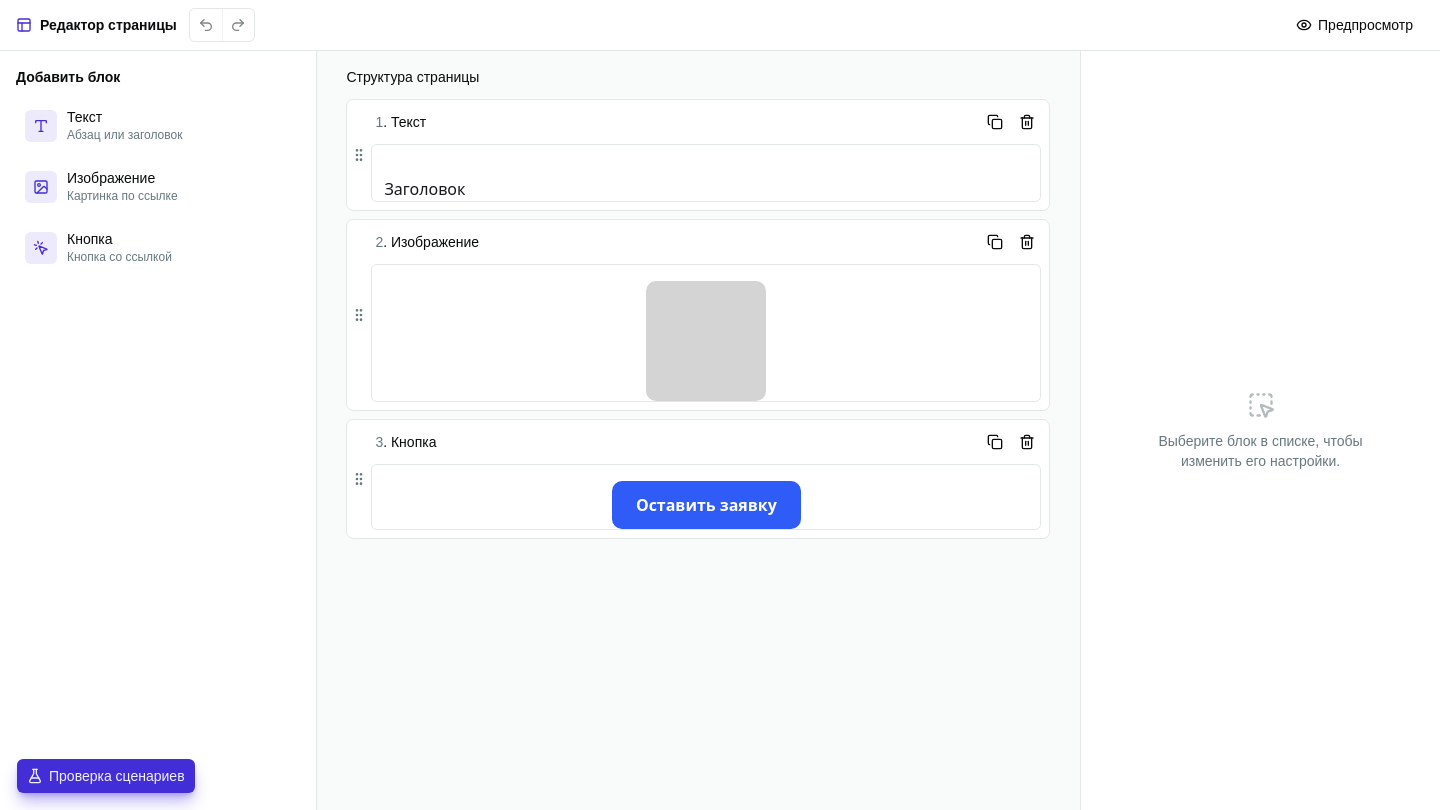
Test: history › does not put block selection into the history
Expected: the heading "Структура страницы" is shown, [346,69,479,85]
Click the button "Кнопка Кнопка со ссылкой".
click(158, 248)  # box [16,221,300,274]
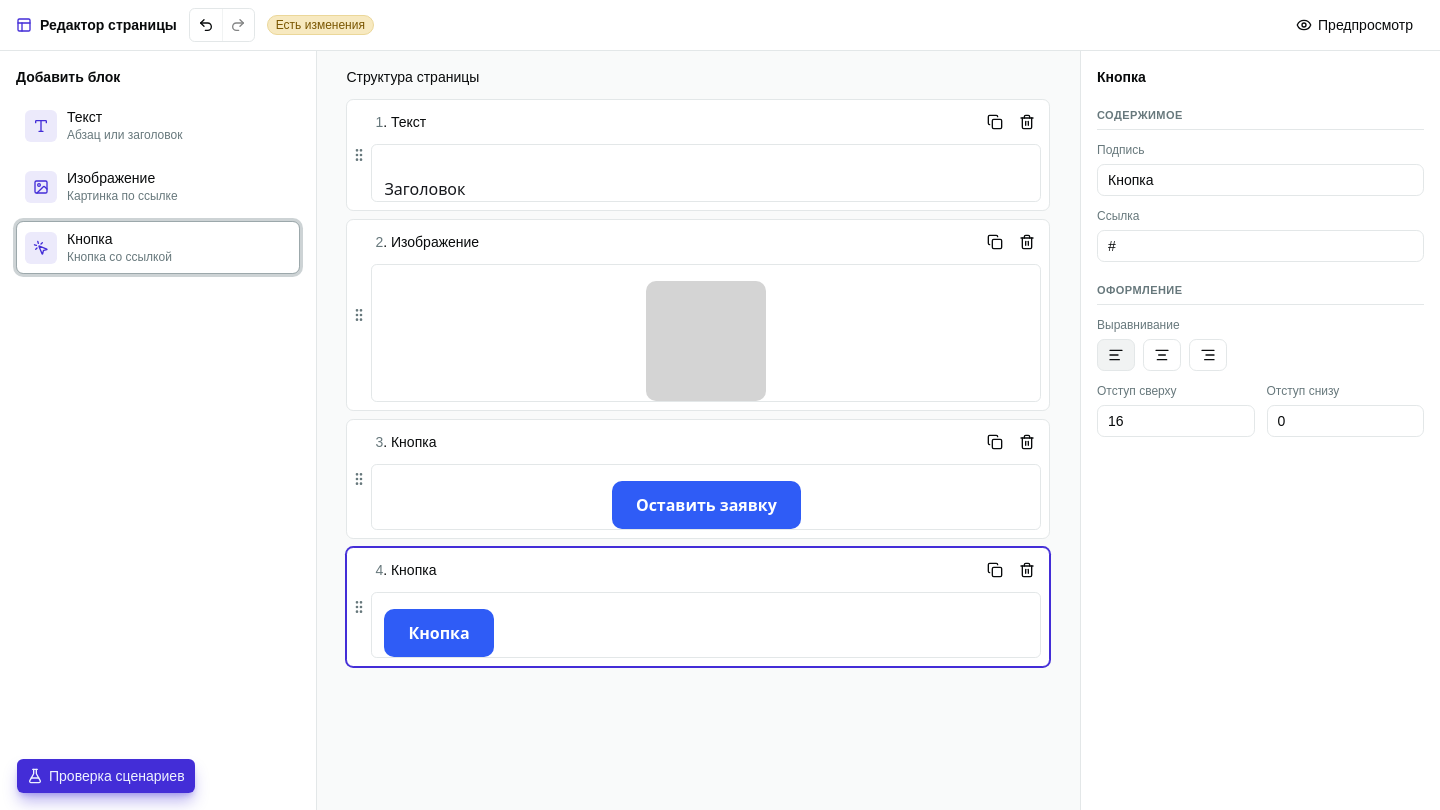
Click the button "1. Текст".
click(405, 122)  # box [371,110,977,134]
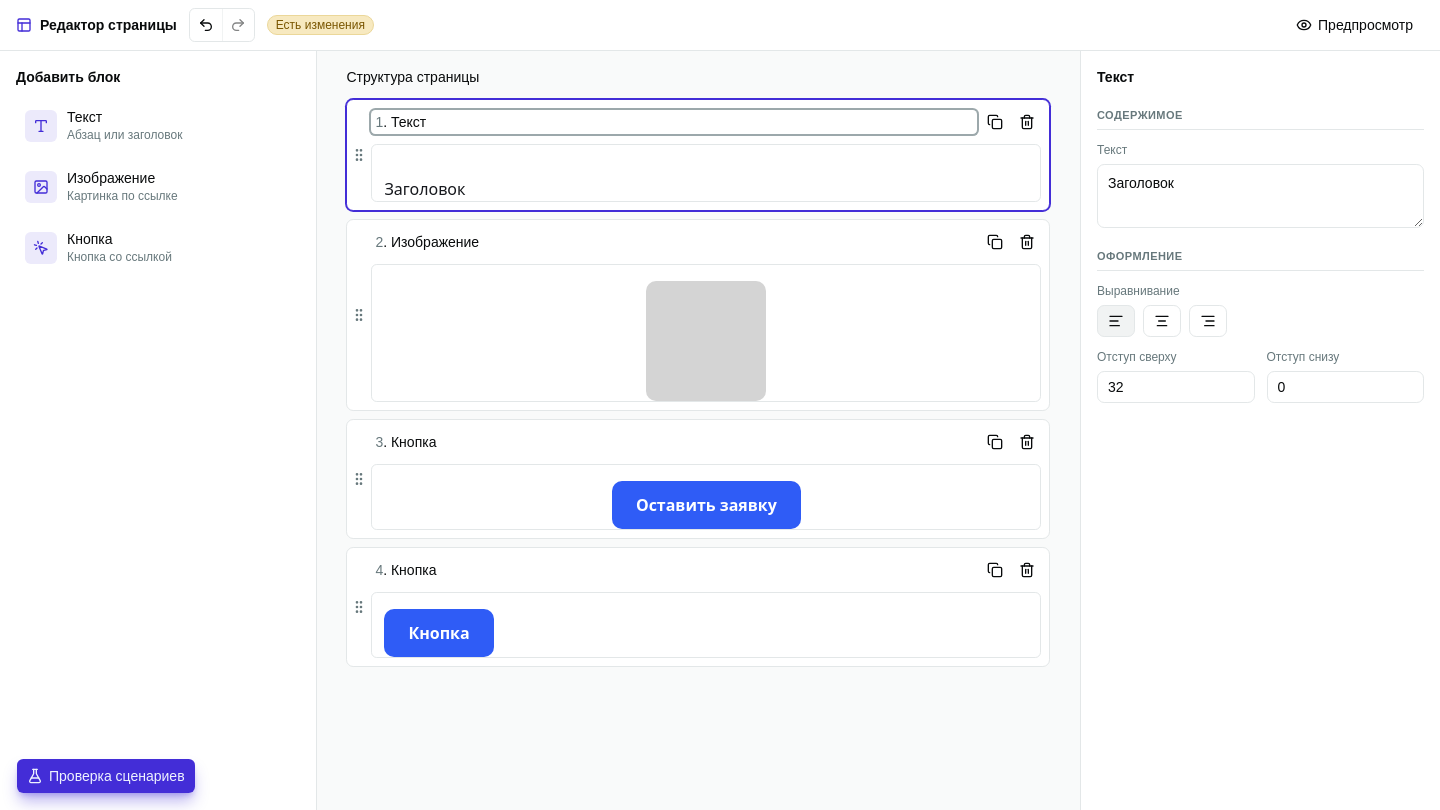
Click the button "2. Изображение".
click(431, 242)  # box [371,230,977,254]
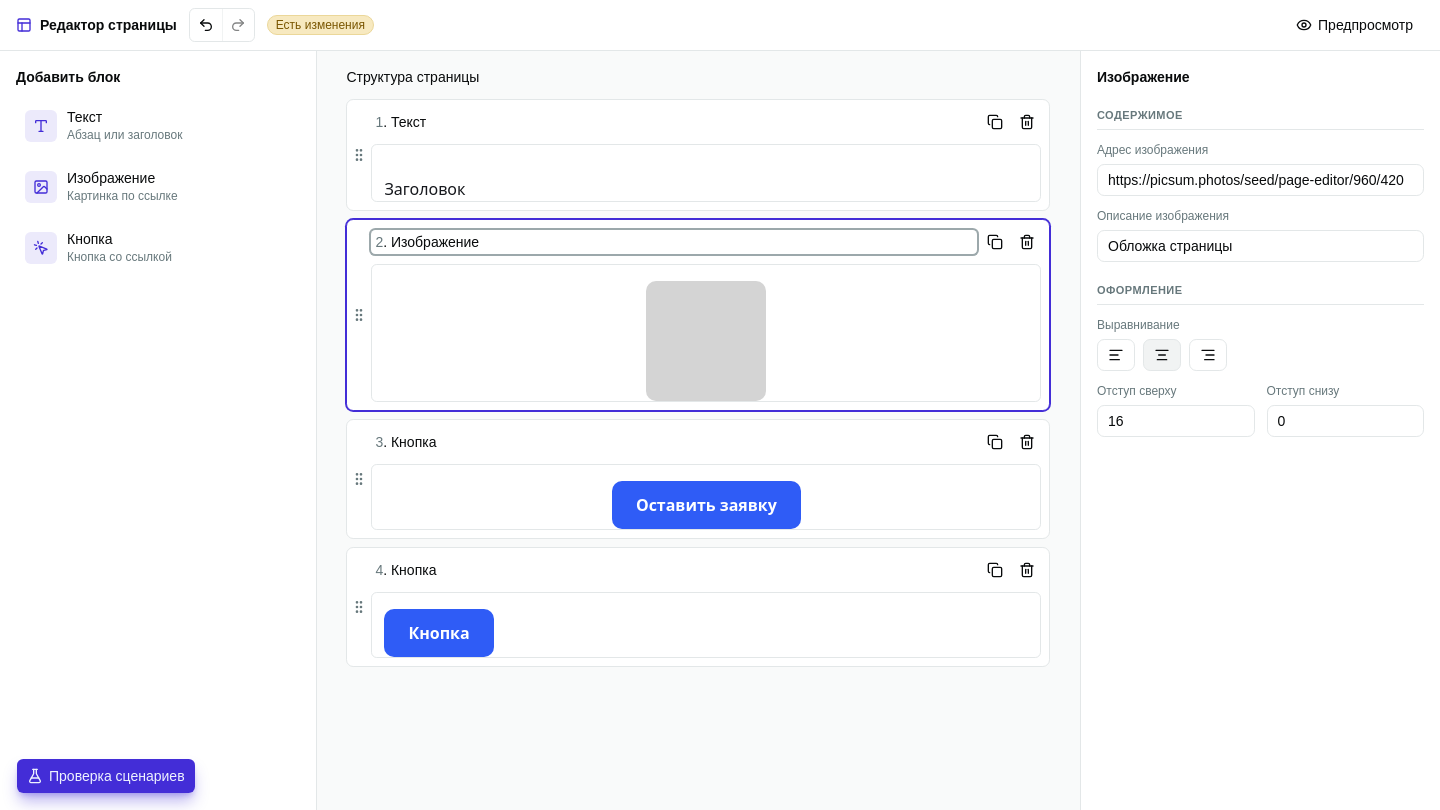
Click the button "3. Кнопка".
click(410, 442)  # box [371,430,977,454]
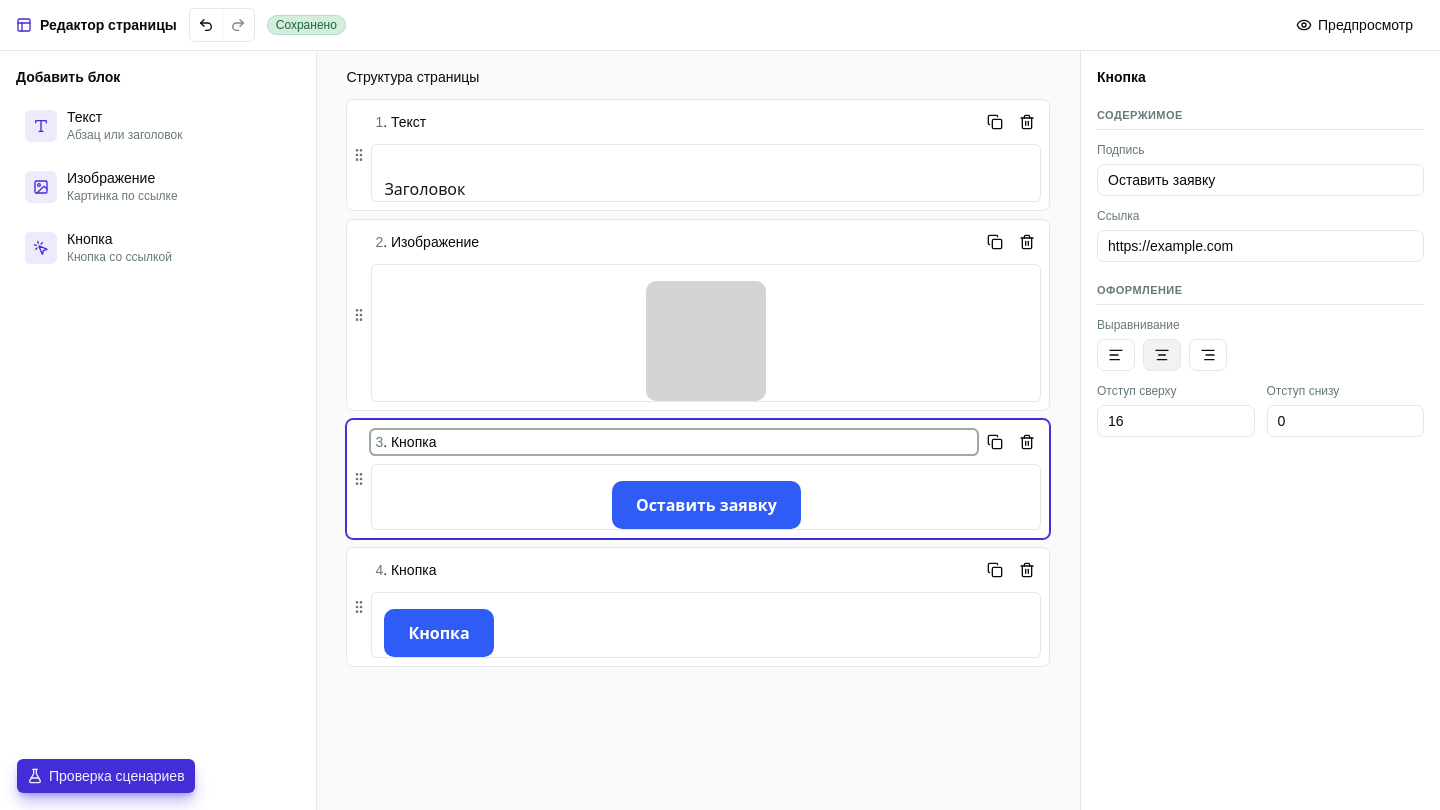
Click the button named "Отменить".
click(206, 25)  # box [190,9,222,41]
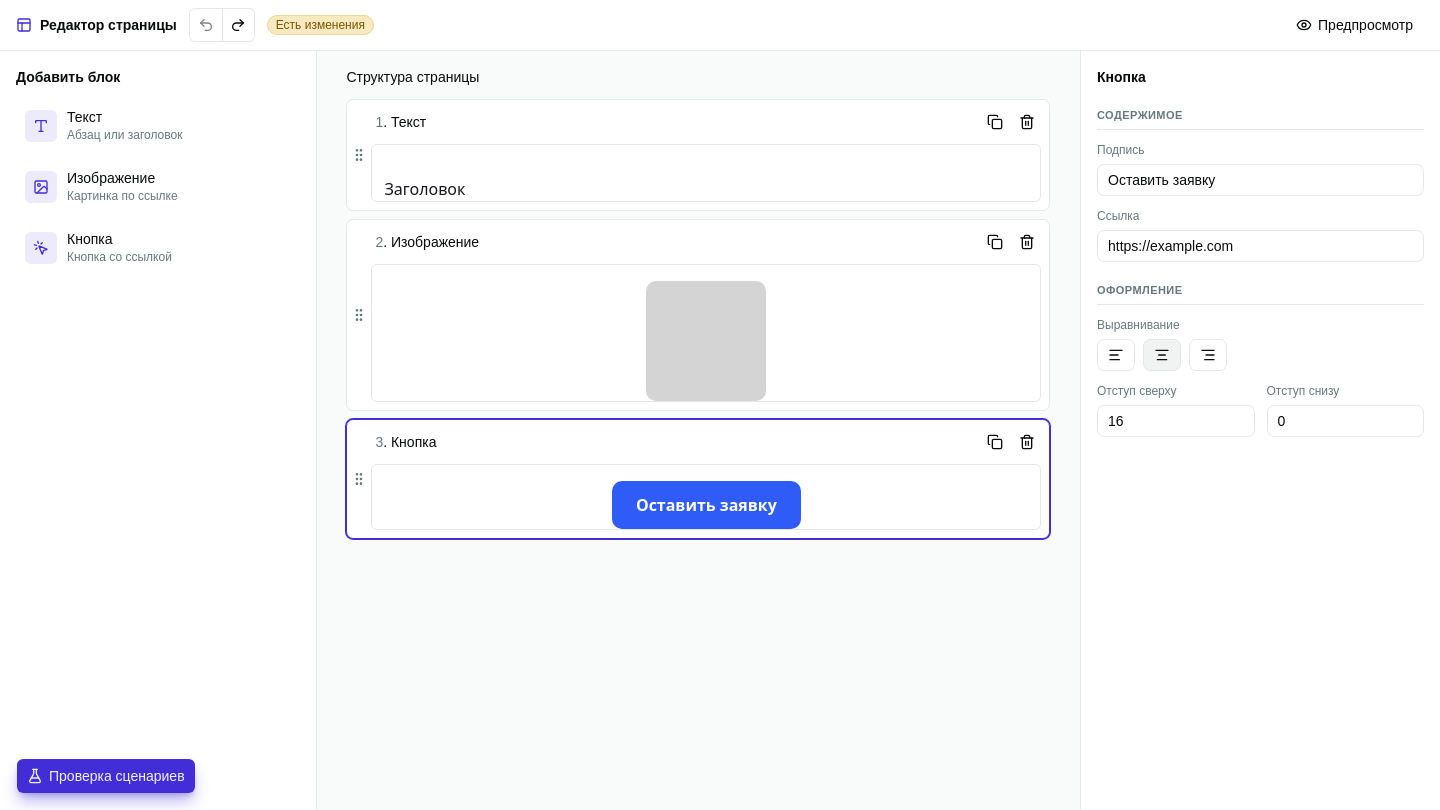
Expected: the button named "Отменить" is disabled, [190,9,222,41]
